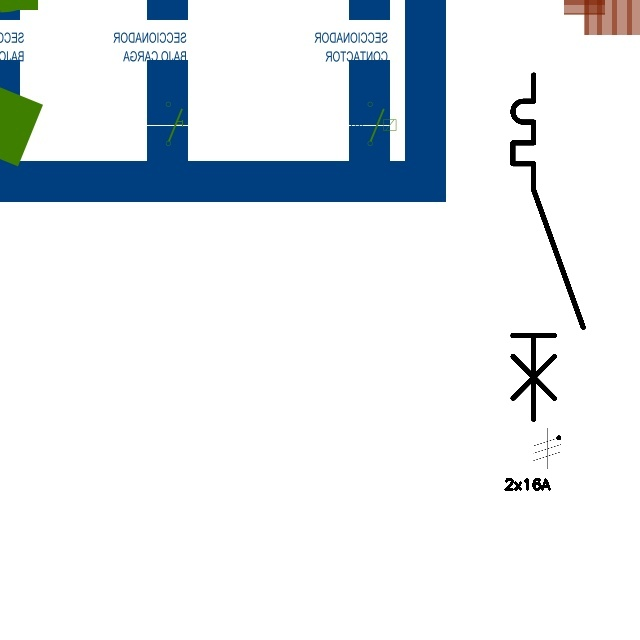interruptor_termomagnetico: (504, 66, 592, 428)
